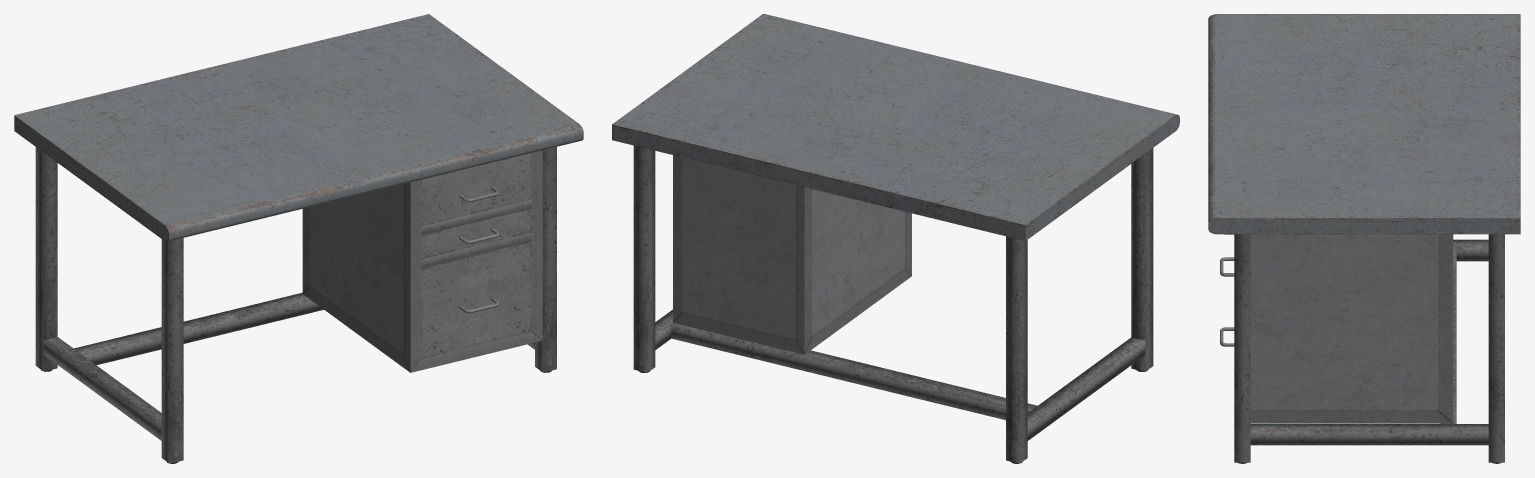
File: 059_HospitalDesk.fbx
3 renders of one model, left to right at view 1: azimuth 30°, elevation 25°; view 2: azimuth 150°, elevation 25°; view 3: azimuth 270°, elevation 25°, orthographic.
Visible parts, largest first — view 1: LOD_1_Group_0_Sub_1__sm30_059_HospitalDesk01A_A_Mat, LOD_1_Group_3_Sub_1__sm30_059_HospitalDesk01A_A_Mat, LOD_1_Group_5_Sub_1__sm30_059_HospitalDesk01A_A_Mat, LOD_1_Group_1_Sub_1__sm30_059_HospitalDesk01A_A_Mat, LOD_1_Group_2_Sub_1__sm30_059_HospitalDesk01A_A_Mat; view 2: LOD_1_Group_0_Sub_1__sm30_059_HospitalDesk01A_A_Mat, LOD_1_Group_3_Sub_1__sm30_059_HospitalDesk01A_A_Mat, LOD_1_Group_1_Sub_1__sm30_059_HospitalDesk01A_A_Mat, LOD_1_Group_2_Sub_1__sm30_059_HospitalDesk01A_A_Mat; view 3: LOD_1_Group_0_Sub_1__sm30_059_HospitalDesk01A_A_Mat, LOD_1_Group_3_Sub_1__sm30_059_HospitalDesk01A_A_Mat, LOD_1_Group_1_Sub_1__sm30_059_HospitalDesk01A_A_Mat, LOD_1_Group_2_Sub_1__sm30_059_HospitalDesk01A_A_Mat, LOD_1_Group_5_Sub_1__sm30_059_HospitalDesk01A_A_Mat.
Part boxes in pixels (x1,y1,x2,y2): LOD_1_Group_0_Sub_1__sm30_059_HospitalDesk01A_A_Mat: (14,14,583,241); LOD_1_Group_3_Sub_1__sm30_059_HospitalDesk01A_A_Mat: (302,150,542,372); LOD_1_Group_5_Sub_1__sm30_059_HospitalDesk01A_A_Mat: (421,153,531,358); LOD_1_Group_1_Sub_1__sm30_059_HospitalDesk01A_A_Mat: (35,147,556,463); LOD_1_Group_2_Sub_1__sm30_059_HospitalDesk01A_A_Mat: (74,292,323,365); LOD_1_Group_0_Sub_1__sm30_059_HospitalDesk01A_A_Mat: (612,14,1179,240); LOD_1_Group_3_Sub_1__sm30_059_HospitalDesk01A_A_Mat: (673,155,911,354); LOD_1_Group_1_Sub_1__sm30_059_HospitalDesk01A_A_Mat: (633,145,1153,463); LOD_1_Group_2_Sub_1__sm30_059_HospitalDesk01A_A_Mat: (671,323,1037,420); LOD_1_Group_0_Sub_1__sm30_059_HospitalDesk01A_A_Mat: (1208,14,1520,234); LOD_1_Group_3_Sub_1__sm30_059_HospitalDesk01A_A_Mat: (1250,234,1453,423); LOD_1_Group_1_Sub_1__sm30_059_HospitalDesk01A_A_Mat: (1234,234,1504,463); LOD_1_Group_2_Sub_1__sm30_059_HospitalDesk01A_A_Mat: (1440,246,1456,423); LOD_1_Group_5_Sub_1__sm30_059_HospitalDesk01A_A_Mat: (1220,234,1234,346).
Bounding box in the file's own units: 1.54 × 0.8873 × 0.9929.
